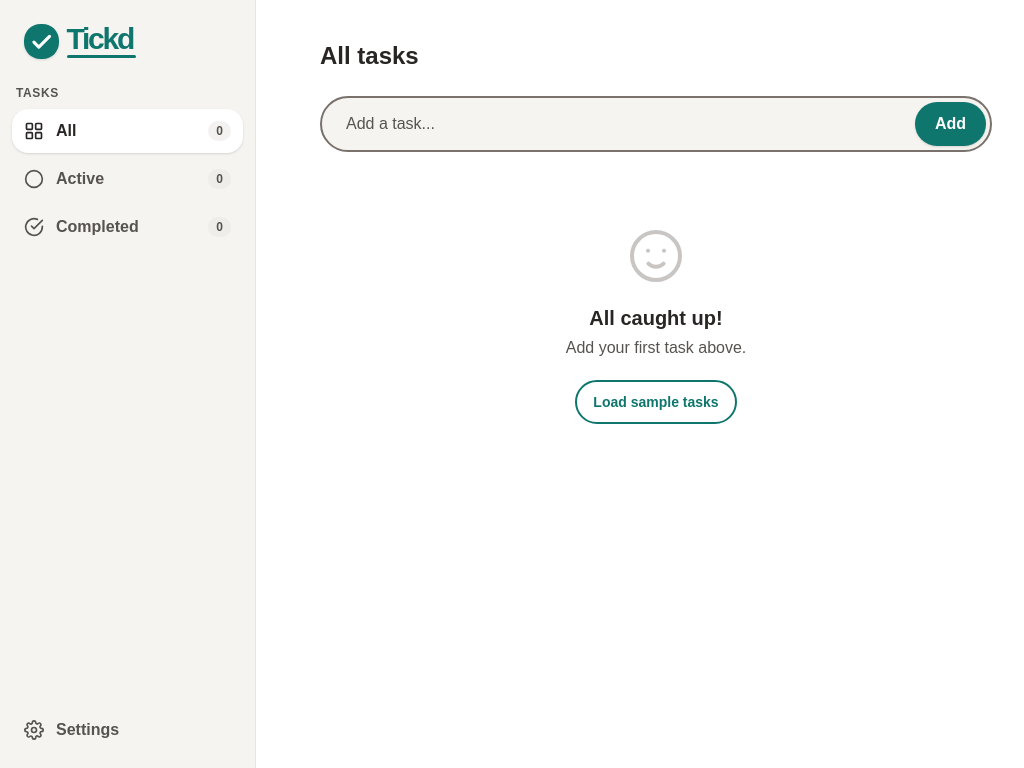
Test case: shows an alert when a later save fails because storage is blocked
The image size is (1024, 768).
Type "Still added" into the field labelled "Add a task" at (656, 124), box [320, 96, 992, 152]
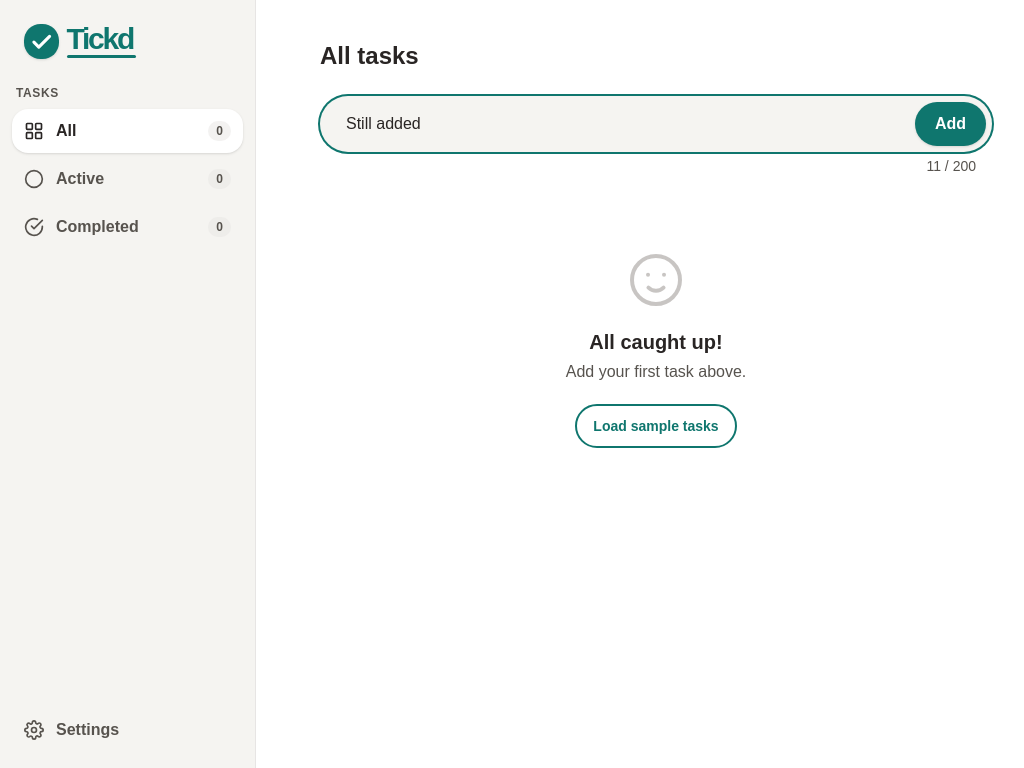
Click the button "Add" at (950, 124), box [915, 102, 986, 146]
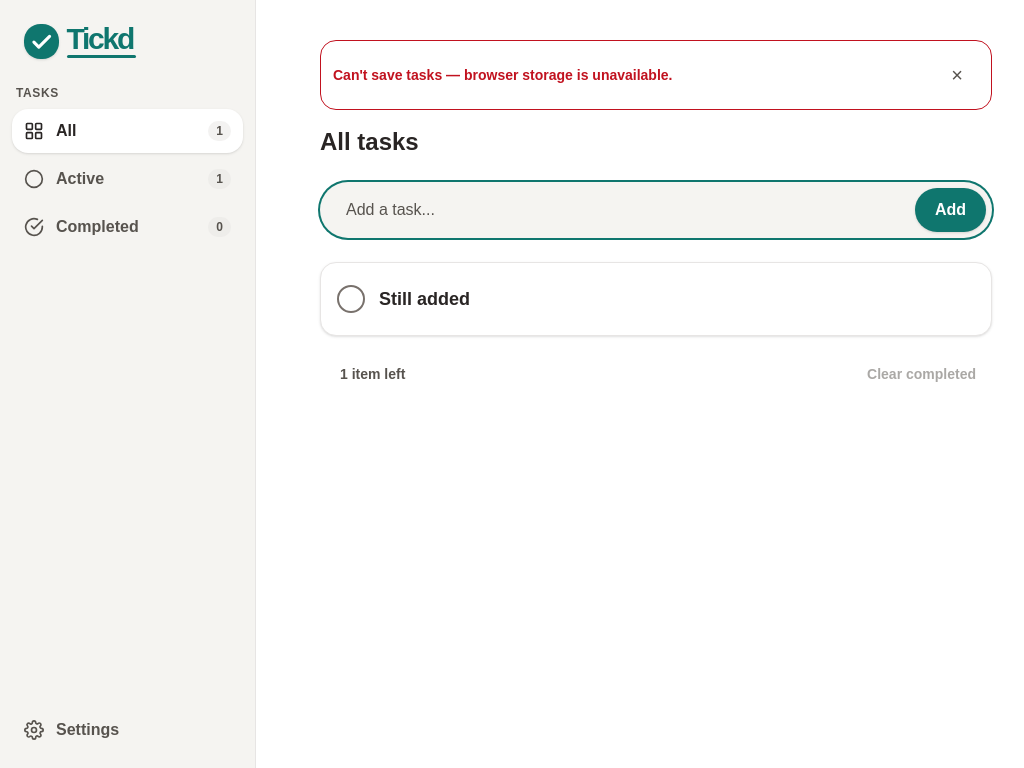
Check: the message shows "Can't save tasks — browser storage is unavailable.", box [333, 67, 672, 83]
